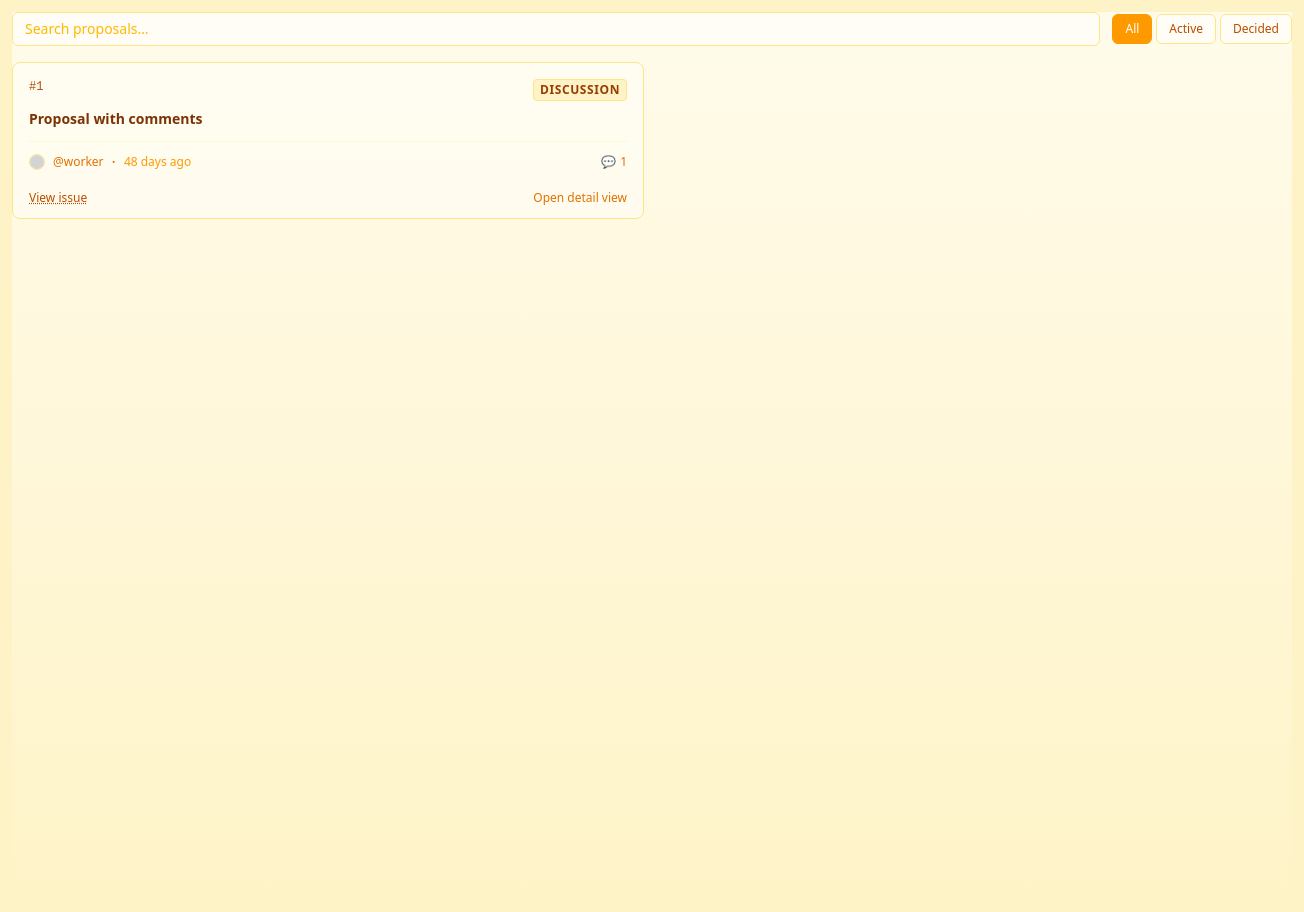
ProposalList › renders proposal comments in the discussion section when selected
Click the button "#1".
click(580, 90)  # box [13,63,643,190]
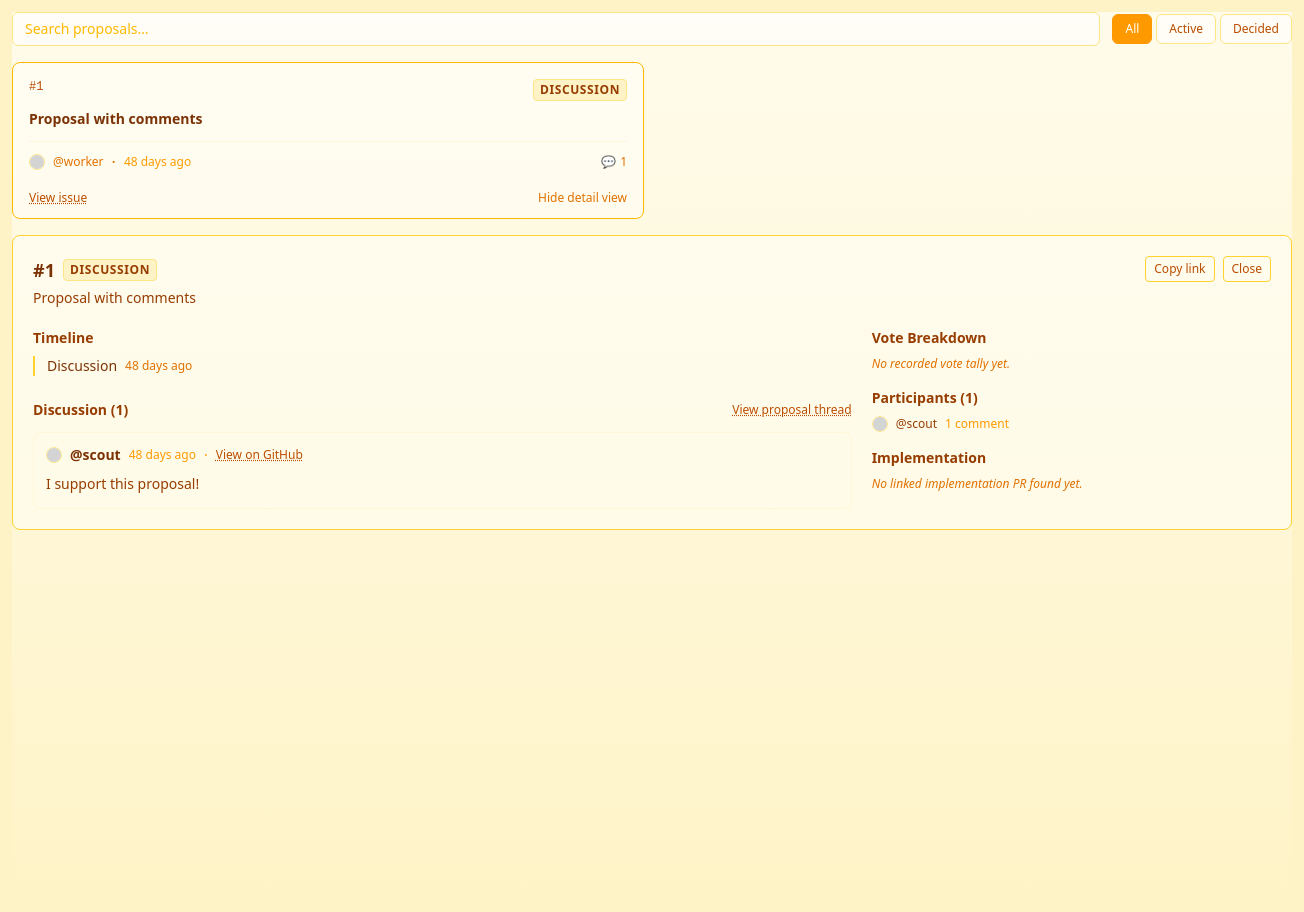
Expected: the heading "Discussion (1)" is shown, [33,400,128,420]
Expected: the text "I support this proposal!" is shown, [46,474,199,493]
